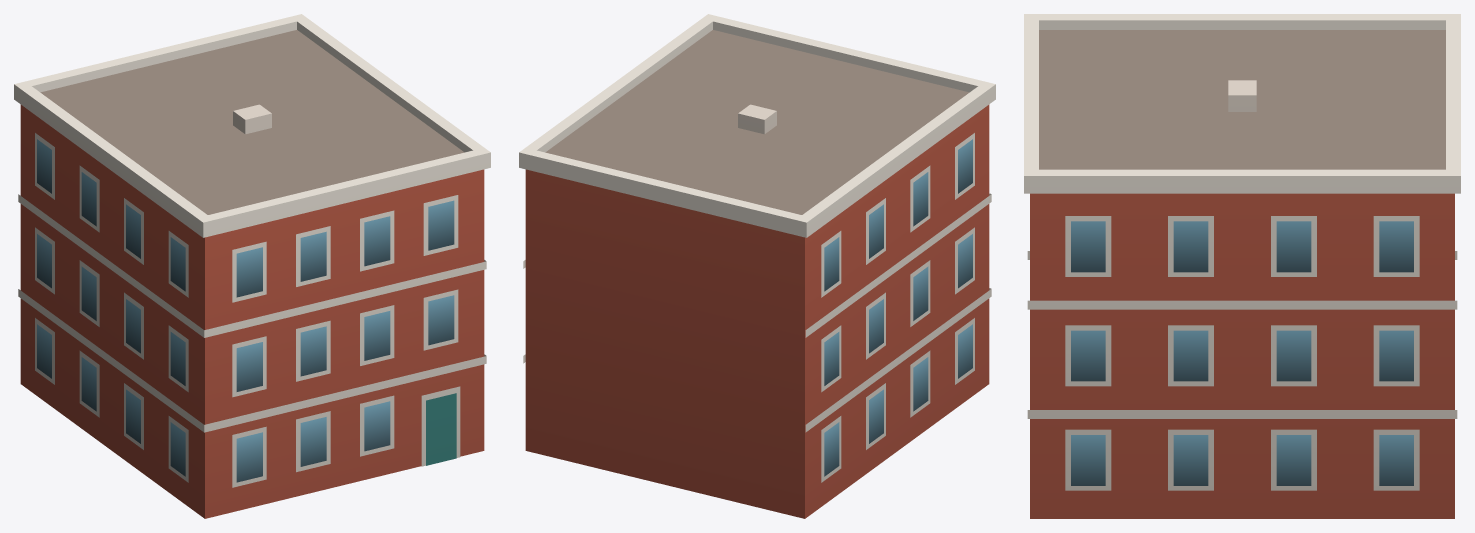
The model's file is vee_rightb1_far.glb.
The picture shows the model from 3 angles, left to right: view 1: azimuth 30°, elevation 25°; view 2: azimuth 150°, elevation 25°; view 3: azimuth 270°, elevation 25°; orthographic projection. The views are drawn at different scales.
Visible parts, largest first — view 1: vee_rightb1_far; view 2: vee_rightb1_far; view 3: vee_rightb1_far.
Boxes of the visible parts, box(x1,y1,x2,y2) form: vee_rightb1_far: box(14, 14, 490, 518); vee_rightb1_far: box(519, 14, 995, 518); vee_rightb1_far: box(1024, 14, 1460, 518).
Bounding box in the file's own units: 10.82 × 10.97 × 12.32.
1 material, 1 textured.
